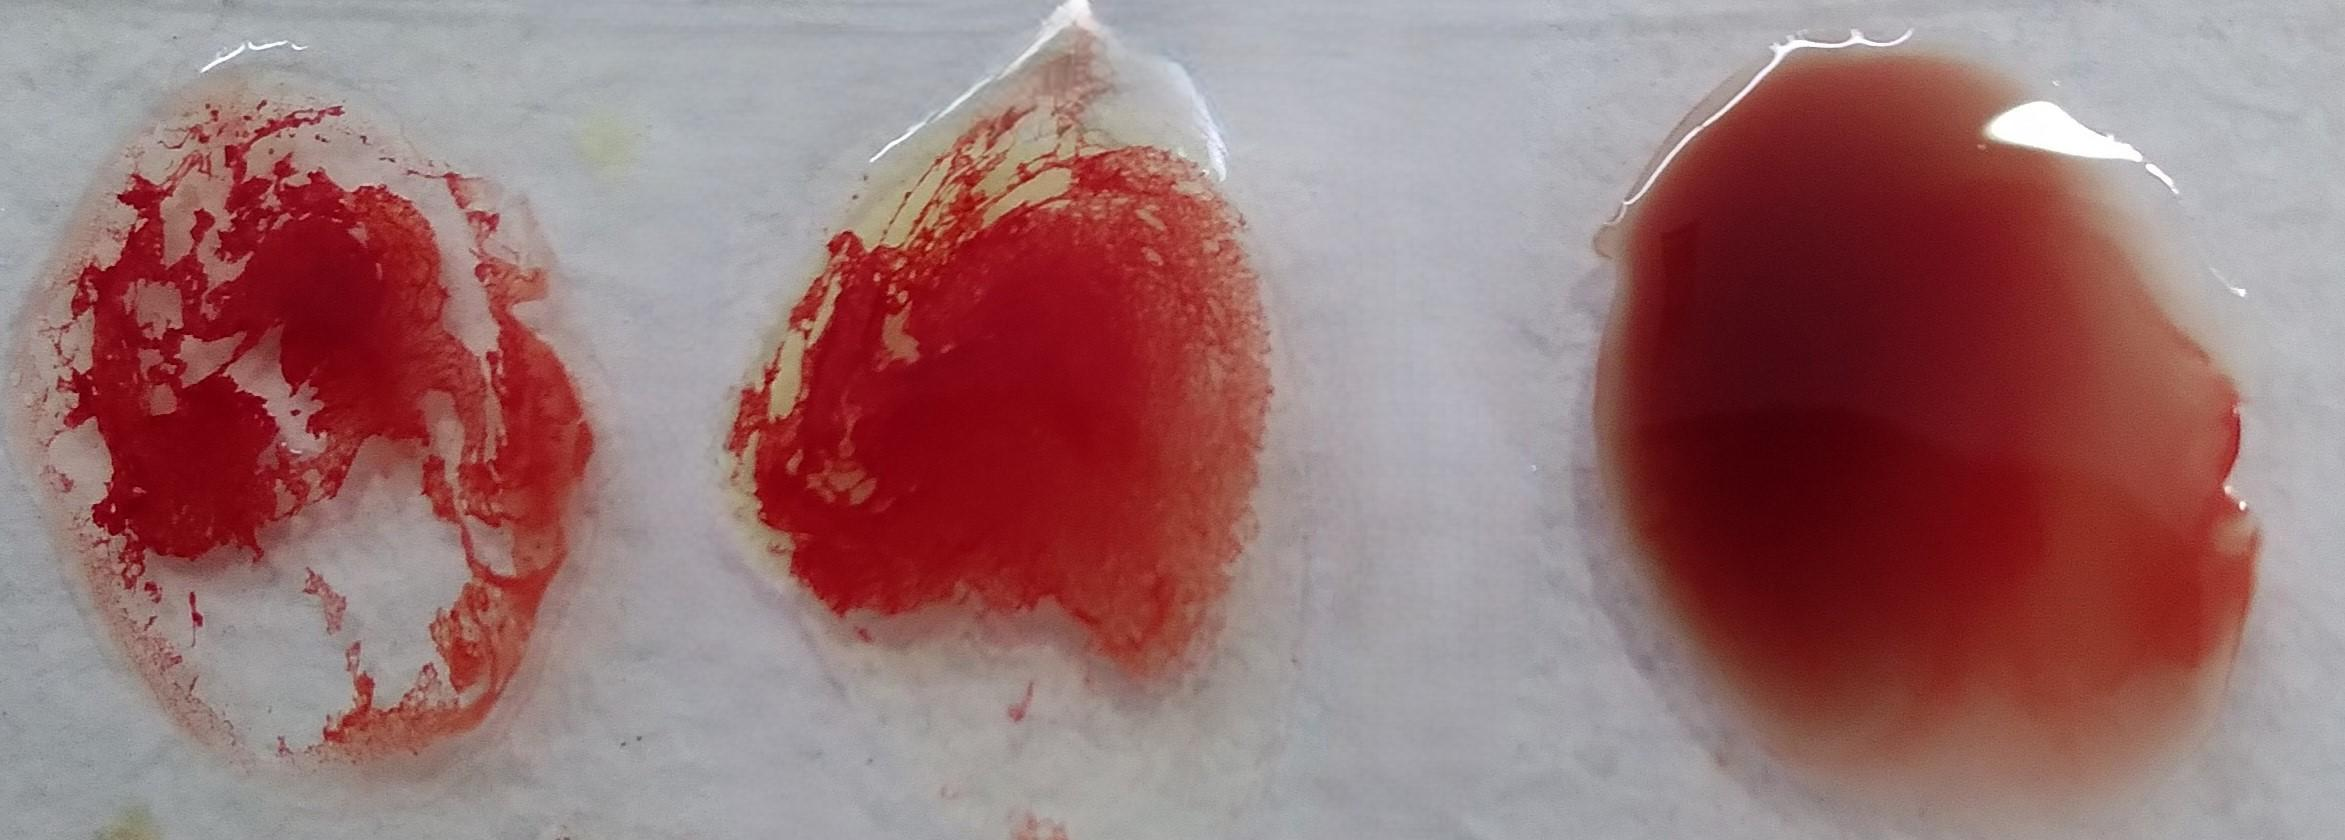B: (748, 67, 1262, 711)
D: (66, 78, 538, 735)
